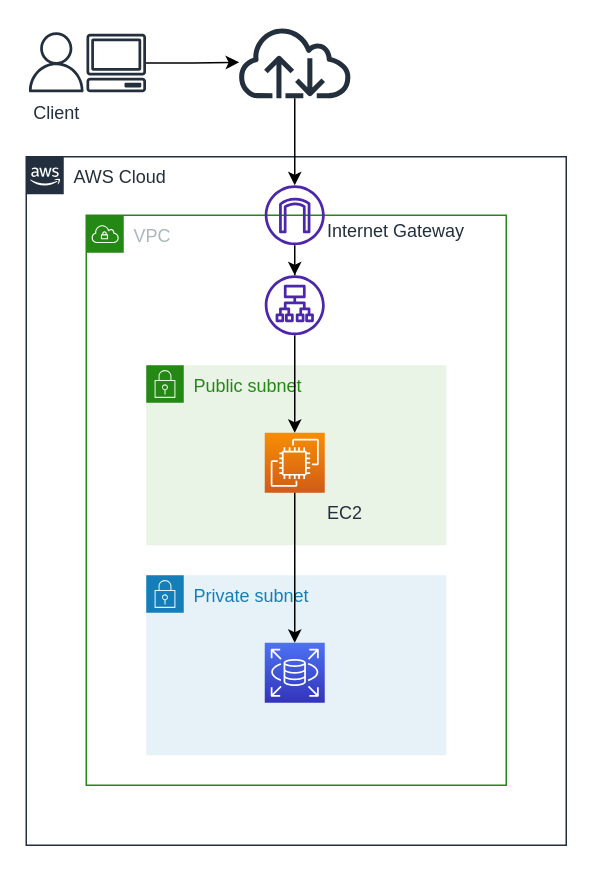
Image size: 593x872. Some labels were removed from this diagram. The shapes that lost their labels are listed below. From the top down, each one's centre as x and y in pixels, then its label:
the point at 294,62: Internet
the point at 294,304: Application Load Balancer
the point at 294,672: RDS
